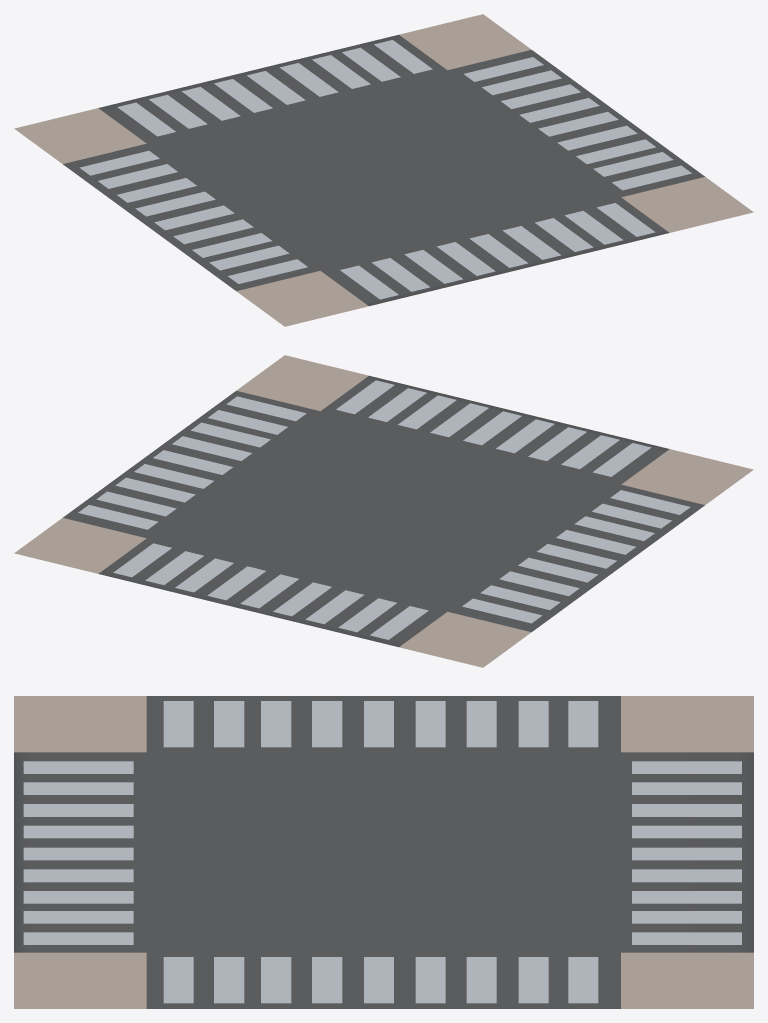
The model's file is Road_Style2.fbx.
The picture shows the model from 3 angles, top to bottom: view 1: azimuth 30°, elevation 25°; view 2: azimuth 150°, elevation 25°; view 3: azimuth 270°, elevation 25°; orthographic projection. The views are drawn at different scales.
Visible parts, largest first — view 1: Road_Style2; view 2: Road_Style2; view 3: Road_Style2.
Boxes of the visible parts, left/top/right/bottom form: Road_Style2: left=14, top=14, right=753, bottom=326; Road_Style2: left=14, top=355, right=753, bottom=667; Road_Style2: left=14, top=696, right=753, bottom=1008.
Bounding box in the file's own units: 2500 × 2.88 × 2500.
